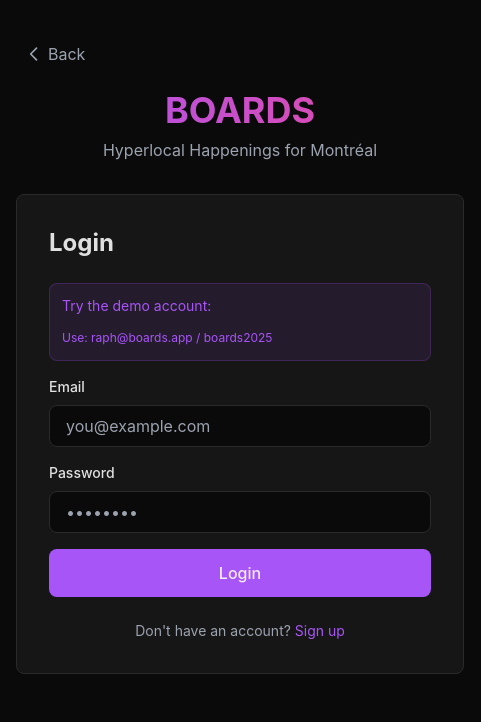
Test: Login Component › displays error message on failed login
Type "wrong@example.com" into the field labelled "Email" at (240, 426), box [49,405,431,447]
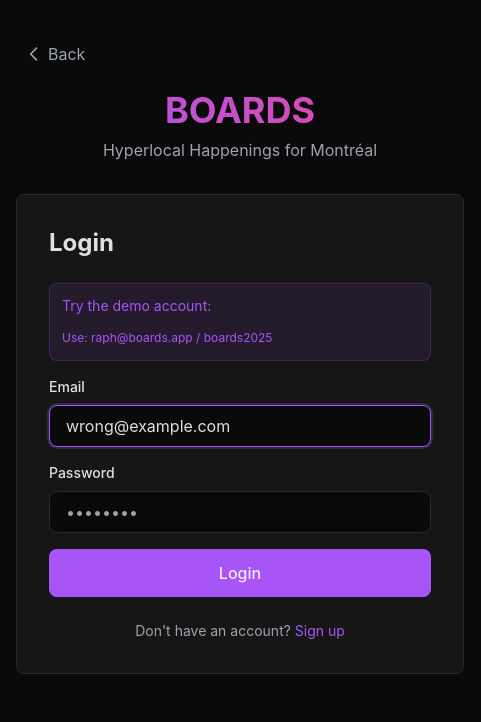
Type "wrongpassword" into the password field labelled "Password" at (240, 512), box [49,491,431,533]
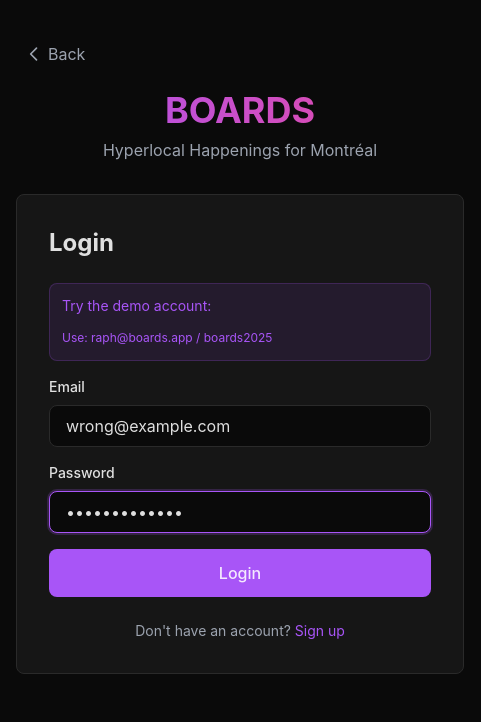
Click the button "Login" at (240, 573), box [49,549,431,597]
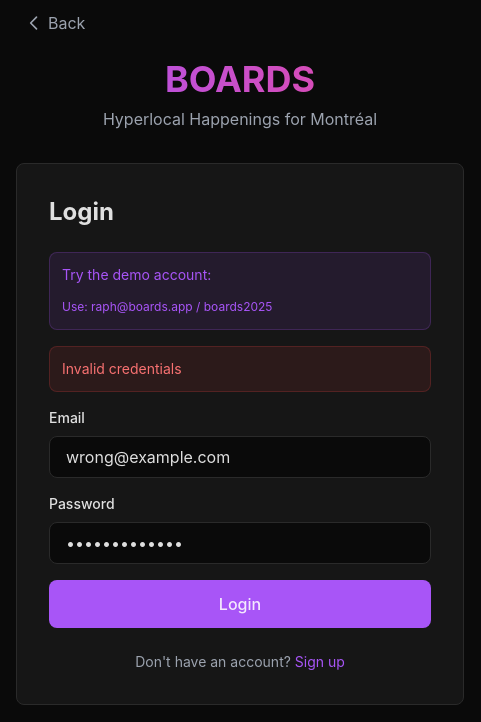
Expected: the text "Invalid credentials" is shown, [49,346,431,392]
